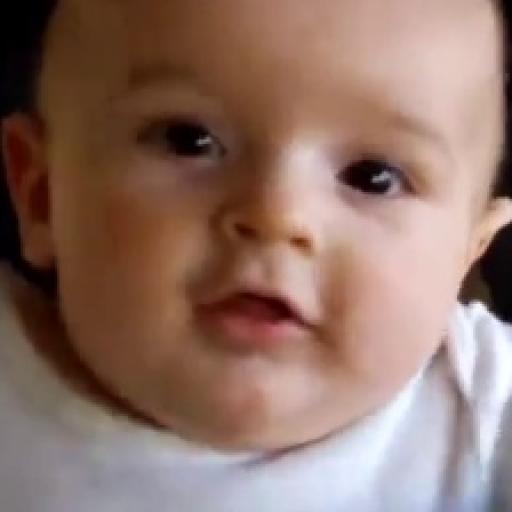Autism: (46, 0, 504, 476)
